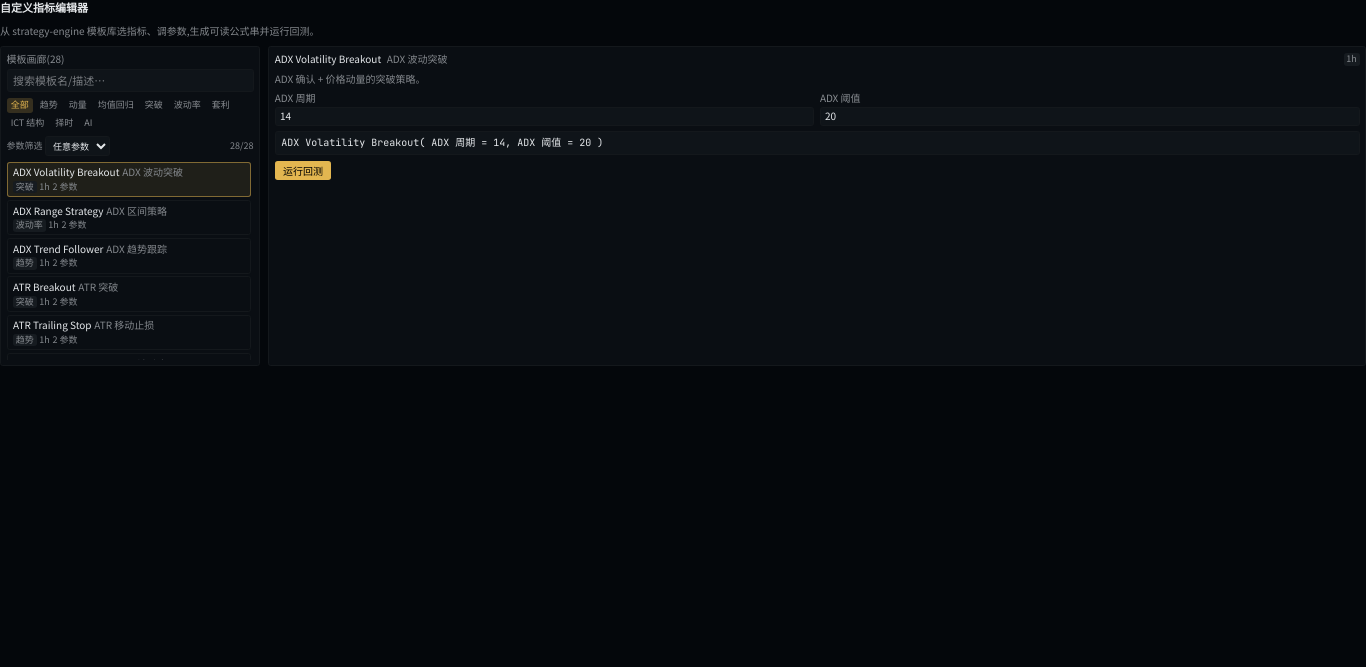
IndicatorEditorPage(自定义指标编辑器) › 运行回测 → 后端不可达 → 8s 后 demo 结果 + 演示徽章
The image size is (1366, 667).
Click the button "运行回测": (303,171) [275,161,331,180]
Wait 8000 ms
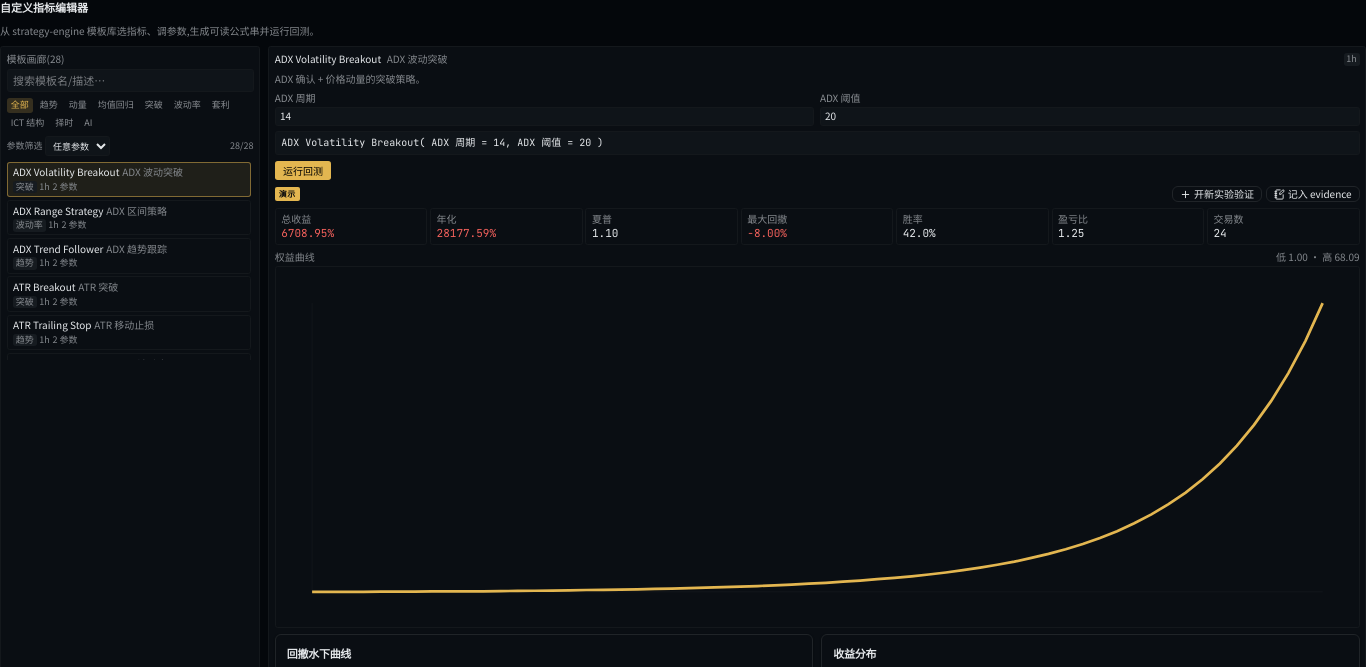
Check: the text "演示" is shown, box [275,187,300,201]
Check: the text "总收益" is shown, box [281,210,311,226]
